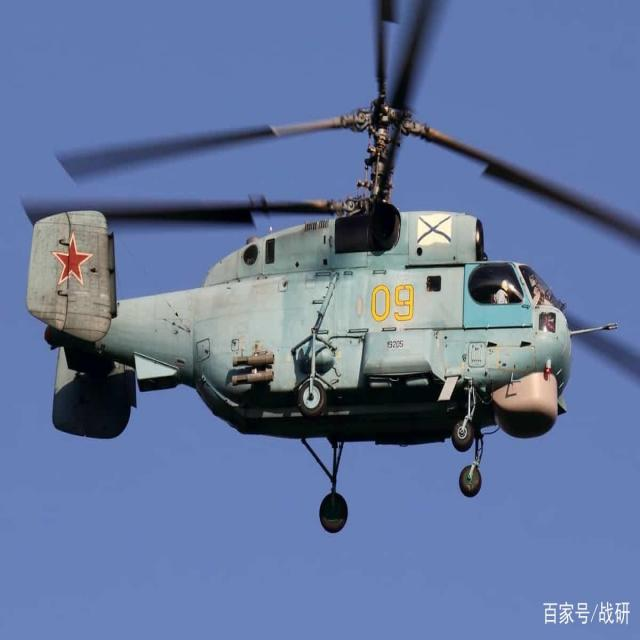MIL_HELO: (15, 1, 640, 534)
